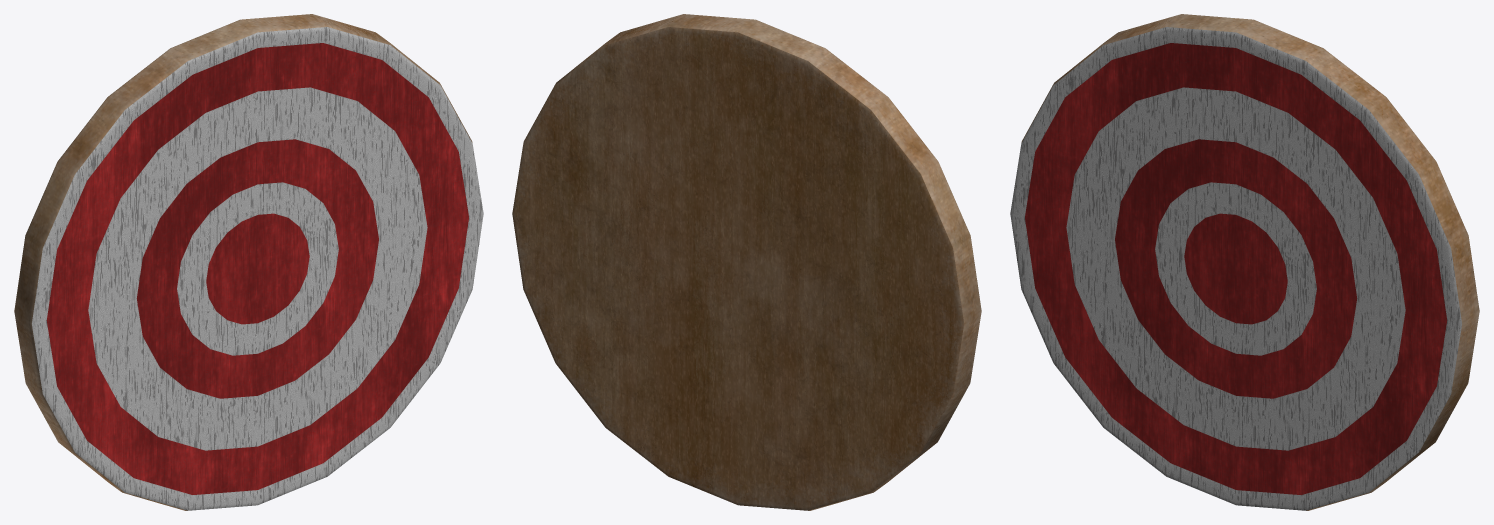
Rendered from ITM_OFFENSIVE_TARGET.fbx.
3 views of the same model, side by side, from view 1: azimuth 30°, elevation 25°; view 2: azimuth 150°, elevation 25°; view 3: azimuth 330°, elevation 25° (orthographic).
Parts seen in each view (by area): view 1: itm_offensive_Target; view 2: itm_offensive_Target; view 3: itm_offensive_Target.
Part boxes in pixels (<box>): itm_offensive_Target: <box>14,14,483,510</box>; itm_offensive_Target: <box>512,14,981,510</box>; itm_offensive_Target: <box>1010,14,1479,510</box>.
Bounding box in the file's own units: 144 × 144 × 10.32.
